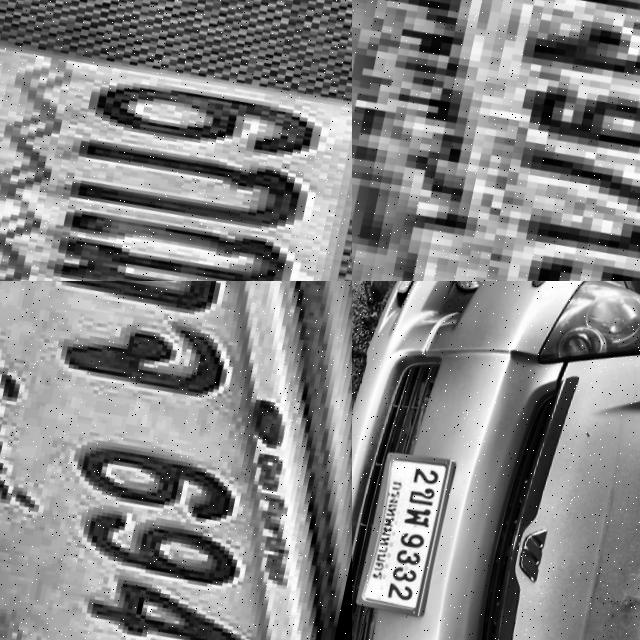license-plate: (0, 281, 352, 640), (0, 0, 352, 281), (352, 0, 640, 281), (352, 443, 460, 621)
